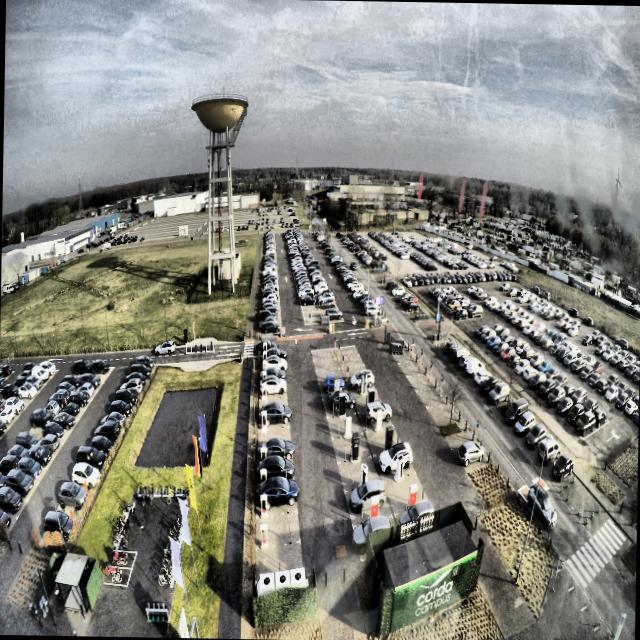cabinet: (259, 567, 305, 589)
car: (258, 475, 299, 512), (258, 455, 294, 481), (260, 400, 293, 425), (259, 437, 295, 458), (259, 374, 289, 396), (259, 366, 286, 385), (263, 347, 288, 364), (262, 354, 287, 371), (254, 338, 277, 354)
parking: (256, 510, 300, 547), (256, 541, 302, 576), (256, 483, 296, 516), (257, 462, 295, 490), (257, 444, 293, 468), (257, 425, 291, 448), (258, 410, 289, 429), (259, 396, 288, 413), (259, 384, 287, 399), (260, 374, 286, 386), (260, 363, 285, 375), (260, 353, 284, 365)
supercharger: (259, 524, 267, 547), (260, 494, 267, 516), (260, 469, 267, 488), (260, 447, 267, 463), (261, 396, 267, 411), (261, 411, 266, 428), (261, 428, 266, 444), (261, 383, 266, 396), (262, 351, 267, 362), (262, 371, 266, 382), (262, 361, 266, 371), (263, 342, 267, 351)
